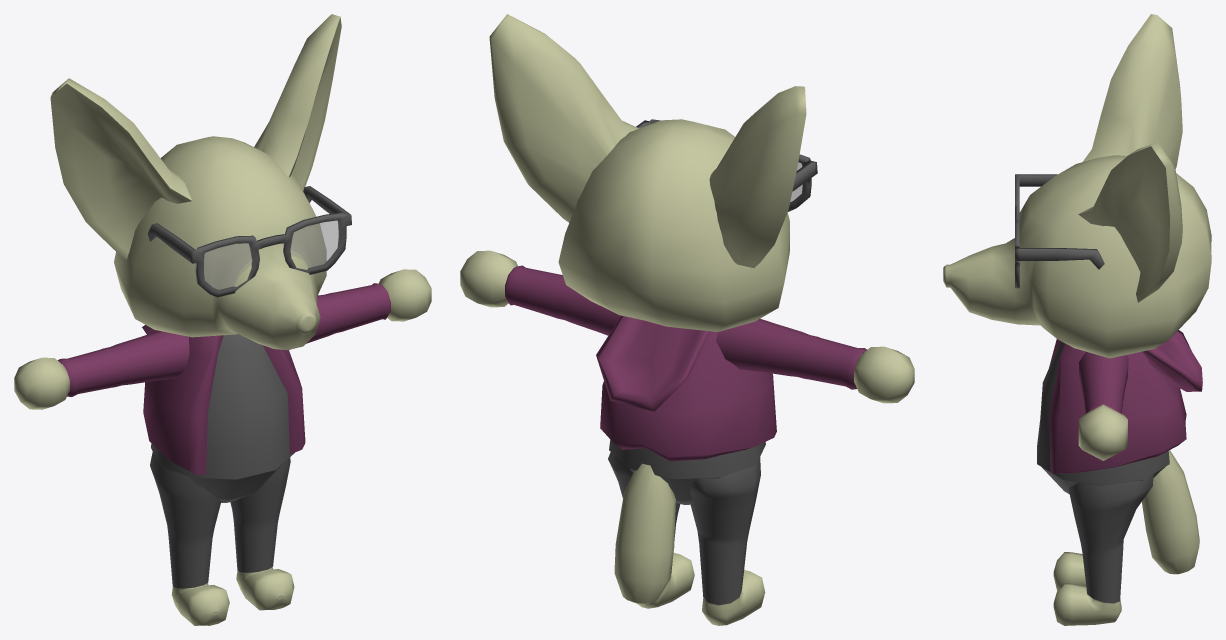
File: Kim_FBX.fbx
3 views of the same model, side by side, from view 1: azimuth 30°, elevation 25°; view 2: azimuth 150°, elevation 25°; view 3: azimuth 270°, elevation 25° (orthographic). The views are drawn at different scales.
Parts seen in each view (by area): view 1: Kim_Geo; view 2: Kim_Geo; view 3: Kim_Geo.
Part boxes in pixels (x1=…): Kim_Geo: x1=14, y1=14, x2=431, y2=625; Kim_Geo: x1=460, y1=14, x2=914, y2=625; Kim_Geo: x1=943, y1=14, x2=1211, y2=625.
Bounding box in the file's own units: 7.05 × 8.75 × 4.03.
